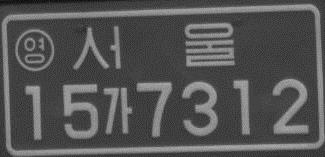1: (21, 83, 48, 143), (229, 77, 255, 137)
2: (270, 77, 310, 135)
3: (181, 80, 218, 137)
5: (60, 83, 99, 140)
7: (133, 81, 175, 139)
가: (101, 85, 135, 137)
서울_D: (71, 18, 236, 73)
영: (15, 27, 56, 73)
